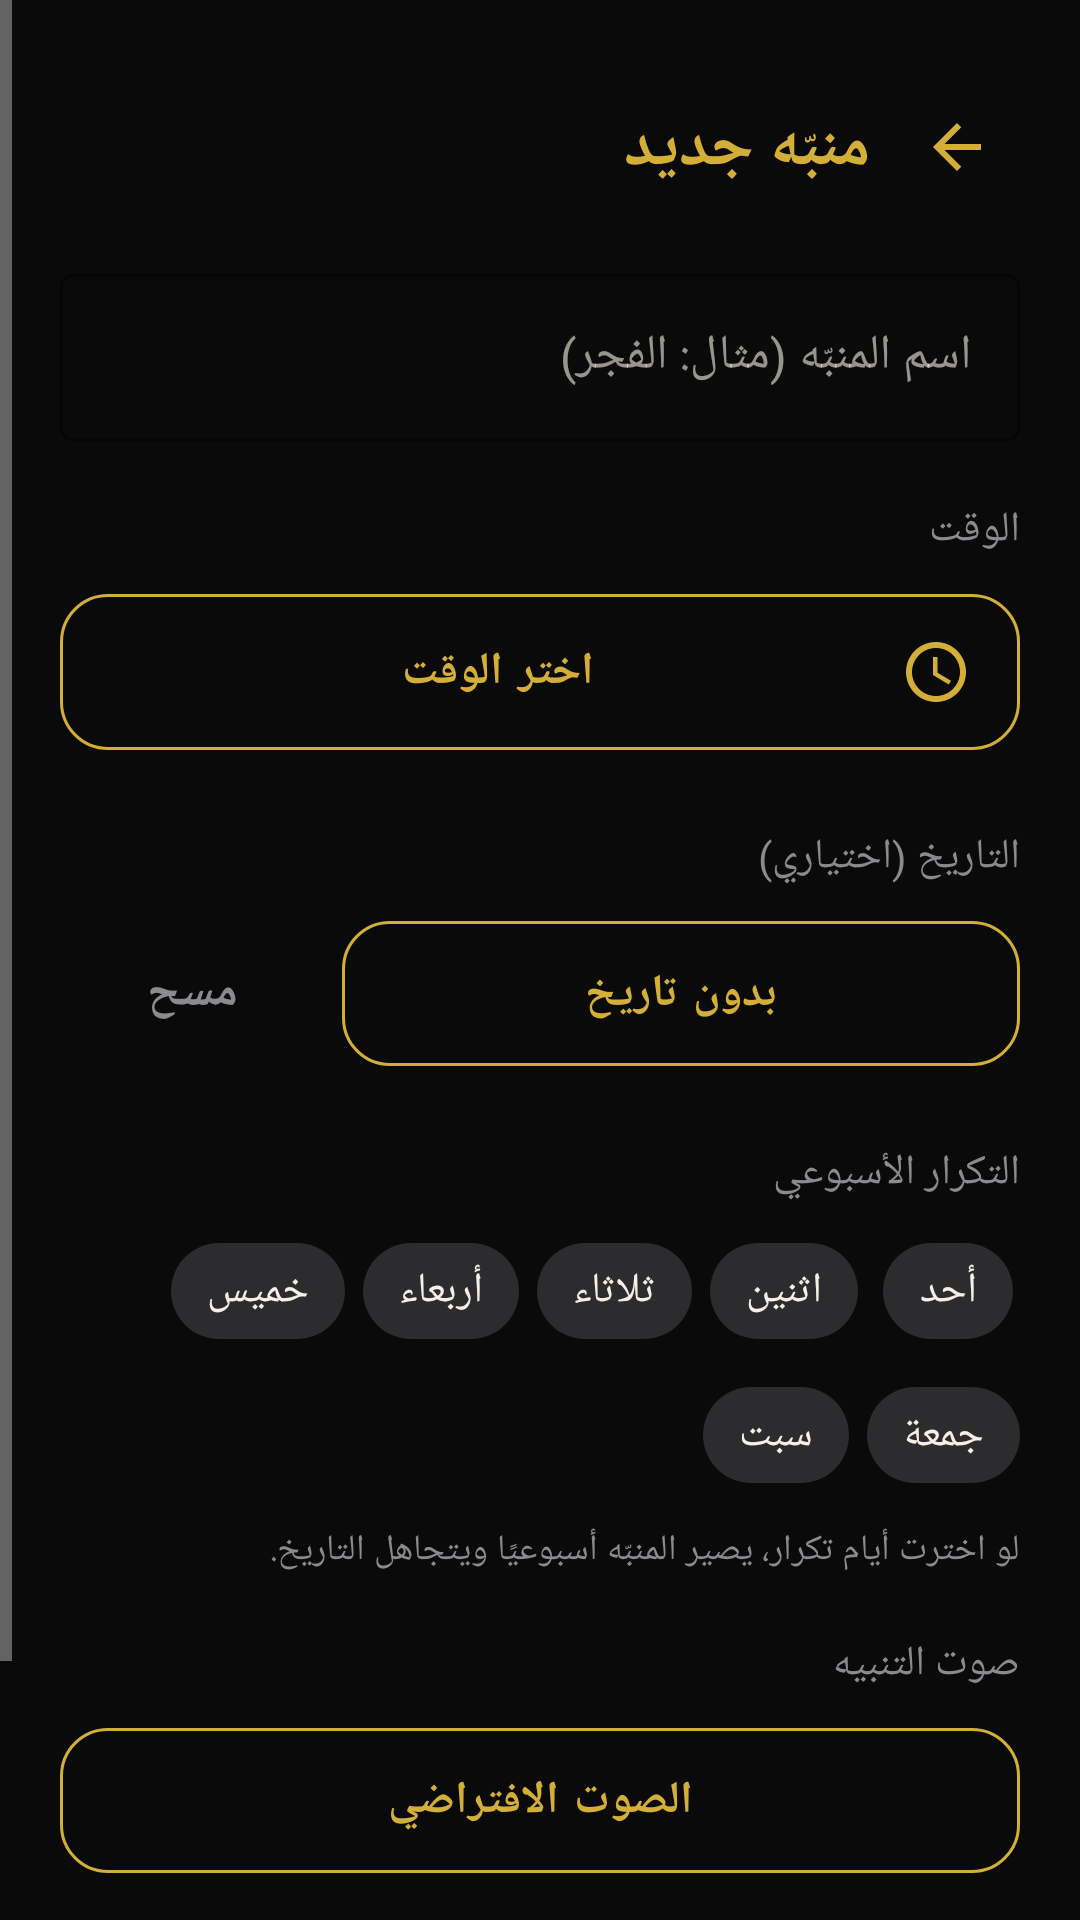

Icons on this 1080*1920 Android screen, each with its box as box(x1, y1, x2, y2):
رجوع: box(933, 123, 981, 171)
